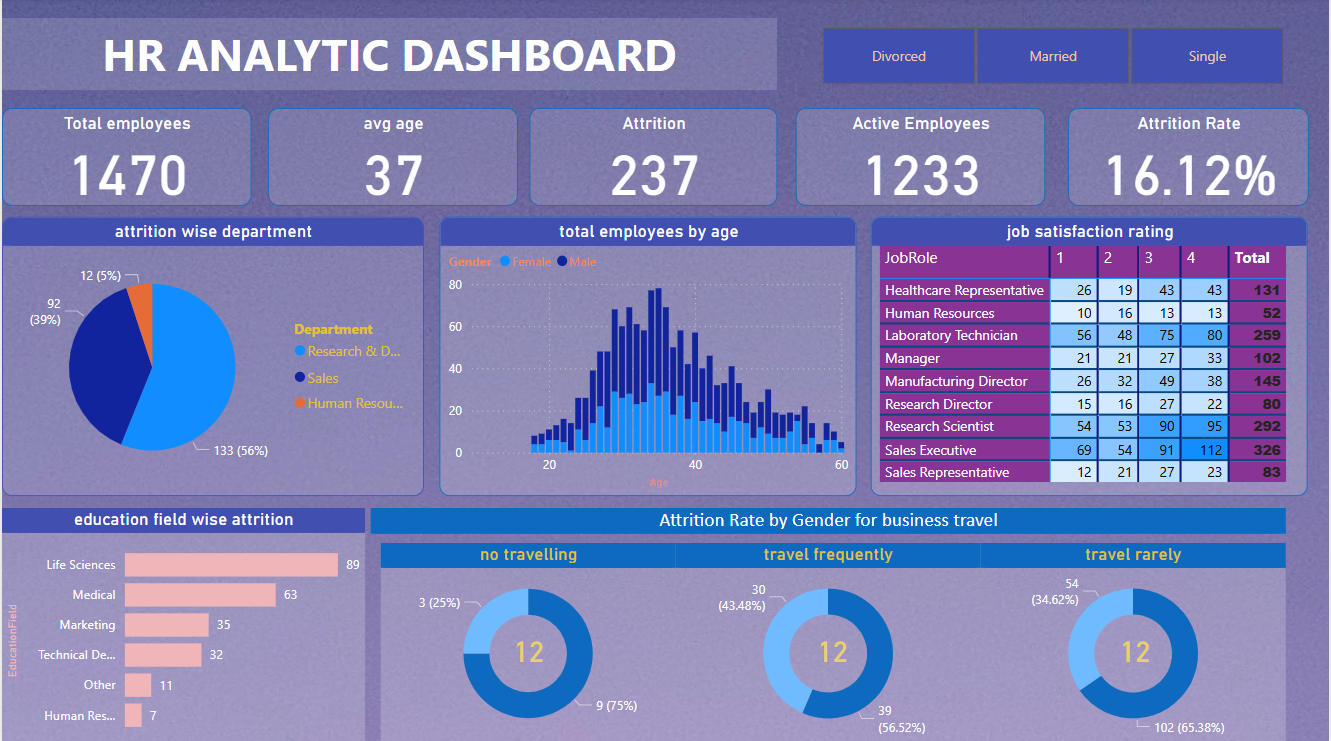

The page's visual inventory and layout, read from the dashboard file:
{"tool":"powerbi","page":{"name":"Page 1","canvas":[1280,720],"ordinal":0},"visuals":[{"type":"textbox","box":[0,36.2,747.8,69.6],"z":0},{"type":"card","title":"Total employees","fields":{"Values":["Sum(HR-Employee-Attrition.EmployeeCount)"]},"box":[0,105.8,240.6,94.2],"z":1000},{"type":"card","title":"avg age","fields":{"Values":["Avg(HR-Employee-Attrition.Age)"]},"box":[256.5,105.8,240.6,94.2],"z":2000},{"type":"card","title":"Attrition ","fields":{"Values":["Sum(HR-Employee-Attrition.attrition count)"]},"box":[508.7,105.8,239.1,94.2],"z":3000},{"type":"card","title":"Active Employees","fields":{"Values":["HR-Employee-Attrition.Active Employees"]},"box":[766.7,105.8,240.6,94.2],"z":4000},{"type":"card","title":"Attrition Rate","fields":{"Values":["HR-Employee-Attrition.attrition rate"]},"box":[1029,105.8,231.9,94.2],"z":5000},{"type":"pieChart","title":"attrition wise department","fields":{"Category":["HR-Employee-Attrition.Department"],"Y":["Sum(HR-Employee-Attrition.attrition count)"]},"box":[0,211,406.8,269.9],"z":6000},{"type":"columnChart","title":"total employees by age","fields":{"Category":["HR-Employee-Attrition.Age"],"Y":["Sum(HR-Employee-Attrition.EmployeeCount)"],"Series":["HR-Employee-Attrition.Gender"]},"box":[421.9,211,402.7,269.9],"z":7000},{"type":"pivotTable","title":"job satisfaction rating","fields":{"Rows":["HR-Employee-Attrition.JobRole"],"Columns":["HR-Employee-Attrition.JobSatisfaction"],"Values":["Sum(HR-Employee-Attrition.EmployeeCount)"]},"box":[838.4,211,421.9,269.9],"z":8000},{"type":"barChart","title":"education field wise attrition","fields":{"Category":["HR-Employee-Attrition.EducationField"],"Y":["Sum(HR-Employee-Attrition.attrition count)"]},"box":[0,491.8,350.7,228.8],"z":9000},{"type":"donutChart","title":"no travelling","fields":{"Category":["HR-Employee-Attrition.Gender"],"Y":["Sum(HR-Employee-Attrition.attrition count)"],"Series":["HR-Employee-Attrition.BusinessTravel"]},"box":[365.8,526,284.9,194.5],"z":10000},{"type":"textbox","title":"Attrition Rate by Gender for business travel","box":[356.2,491.8,883.6,24.7],"z":11000},{"type":"donutChart","title":"travel frequently","fields":{"Category":["HR-Employee-Attrition.Gender"],"Y":["Sum(HR-Employee-Attrition.attrition count)"],"Series":["HR-Employee-Attrition.BusinessTravel"]},"box":[650.7,526,294.5,194.5],"z":12000},{"type":"donutChart","title":"travel rarely","fields":{"Category":["HR-Employee-Attrition.Gender"],"Y":["Sum(HR-Employee-Attrition.attrition count)"],"Series":["HR-Employee-Attrition.BusinessTravel"]},"box":[945.2,526,294.5,194.5],"z":13000},{"type":"card","fields":{"Values":["Sum(HR-Employee-Attrition.attrition count)"]},"box":[484.9,606.8,46.6,46.6],"z":14000},{"type":"card","fields":{"Values":["Sum(HR-Employee-Attrition.attrition count)"]},"box":[778.1,606.8,46.6,46.6],"z":15000},{"type":"card","fields":{"Values":["Sum(HR-Employee-Attrition.attrition count)"]},"box":[1069.9,606.8,46.6,46.6],"z":16000},{"type":"slicer","fields":{"Values":["HR-Employee-Attrition.MaritalStatus"]},"box":[766.7,39.1,494.2,66.7],"z":17000}]}

Visuals, with their boxes in screenshot pixels (x1, y1, x2, y2), scaled from the page's 1280x720 canvas onto the 1331x741 screenshot:
textbox: (x1=0, y1=37, x2=778, y2=109)
"Total employees" card: (x1=0, y1=109, x2=250, y2=206)
"avg age" card: (x1=267, y1=109, x2=517, y2=206)
"Attrition " card: (x1=529, y1=109, x2=778, y2=206)
"Active Employees" card: (x1=797, y1=109, x2=1047, y2=206)
"Attrition Rate" card: (x1=1070, y1=109, x2=1311, y2=206)
"attrition wise department" pieChart: (x1=0, y1=217, x2=423, y2=495)
"total employees by age" columnChart: (x1=439, y1=217, x2=857, y2=495)
"job satisfaction rating" pivotTable: (x1=872, y1=217, x2=1311, y2=495)
"education field wise attrition" barChart: (x1=0, y1=506, x2=365, y2=740)
"no travelling" donutChart: (x1=380, y1=541, x2=677, y2=740)
"Attrition Rate by Gender for business travel" textbox: (x1=370, y1=506, x2=1289, y2=532)
"travel frequently" donutChart: (x1=677, y1=541, x2=983, y2=740)
"travel rarely" donutChart: (x1=983, y1=541, x2=1289, y2=740)
card - Sum(HR-Employee-Attrition.attrition count): (x1=504, y1=624, x2=553, y2=672)
card - Sum(HR-Employee-Attrition.attrition count): (x1=809, y1=624, x2=858, y2=672)
card - Sum(HR-Employee-Attrition.attrition count): (x1=1113, y1=624, x2=1161, y2=672)
slicer - HR-Employee-Attrition.MaritalStatus: (x1=797, y1=40, x2=1311, y2=109)
